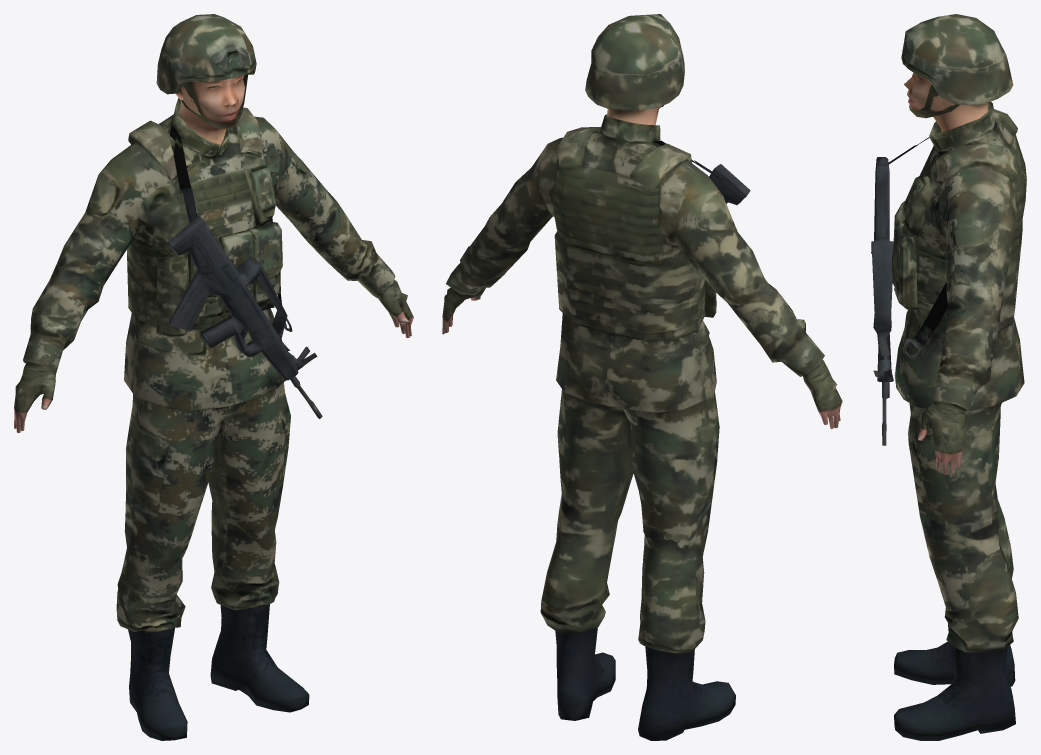
Rendered from cn-rifle-squad.glb.
3 views of the same model, side by side, from view 1: azimuth 30°, elevation 25°; view 2: azimuth 150°, elevation 25°; view 3: azimuth 270°, elevation 25° (orthographic).
Parts seen in each view (by area): view 1: geometry_0; view 2: geometry_0; view 3: geometry_0.
Boxes of the visible parts, x1,y1,x2,y2 form: geometry_0: [14, 14, 413, 740]; geometry_0: [442, 14, 842, 740]; geometry_0: [871, 14, 1026, 740].
Bounding box in the file's own units: 0.5718 × 0.9521 × 0.1963.
Materials: 1 (1 with a texture image).
